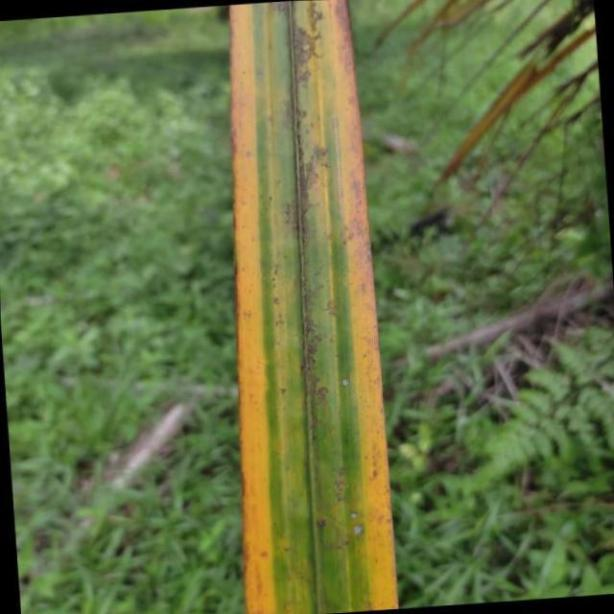Megnesium: (235, 0, 401, 614)
